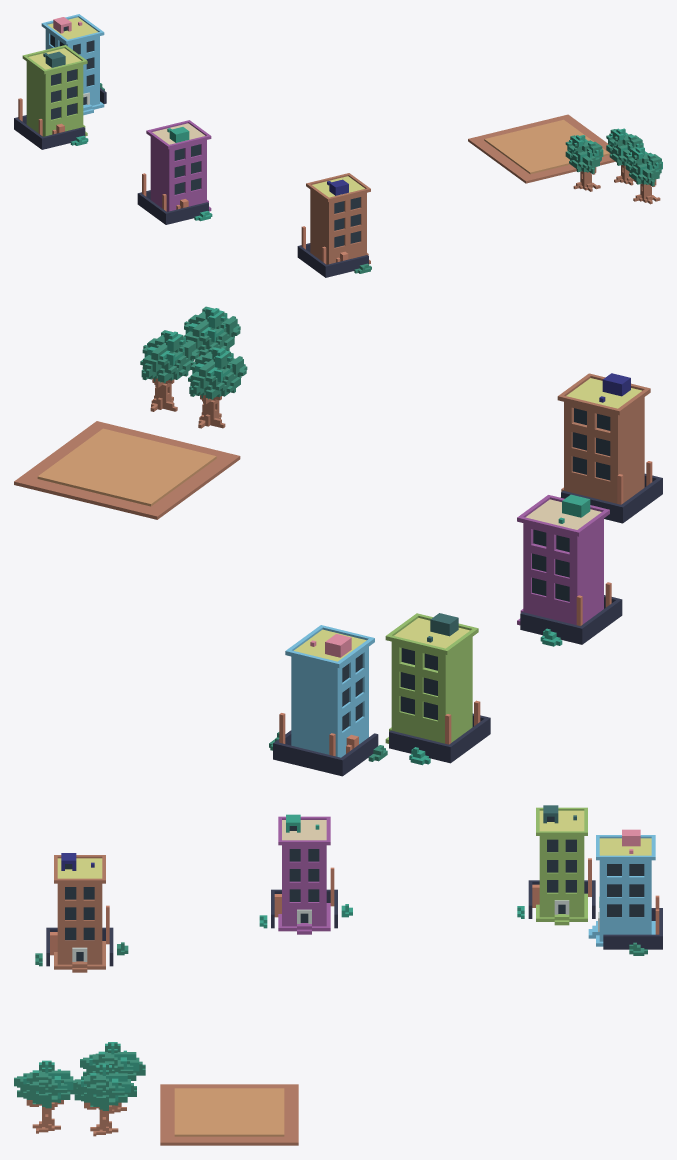
The model's file is ExtraBuildingsAndTrees2.fbx.
3 renders of one model, top to bottom at view 1: azimuth 30°, elevation 25°; view 2: azimuth 150°, elevation 25°; view 3: azimuth 270°, elevation 25°, orthographic. The views are drawn at different scales.
Parts seen in each view (by area): view 1: bgBuilding5, bgBuilding2:bgBuilding2, bgBuilding4, pCube11002, bgBuilding3, Tree2, Tree4, Tree3; view 2: pCube11002, bgBuilding5, bgBuilding2:bgBuilding2, bgBuilding3, bgBuilding4, Tree2, Tree3, Tree4; view 3: pCube11002, bgBuilding3, bgBuilding2:bgBuilding2, bgBuilding4, bgBuilding5, Tree4, Tree3, Tree2.
Boxes of the visible parts, <box> form: bgBuilding5: <box>14,45,88,149</box>; bgBuilding2:bgBuilding2: <box>137,120,212,224</box>; bgBuilding4: <box>297,173,371,277</box>; pCube11002: <box>468,114,615,183</box>; bgBuilding3: <box>41,14,106,115</box>; Tree2: <box>565,135,603,191</box>; Tree4: <box>625,147,662,204</box>; Tree3: <box>606,128,643,185</box>; pCube11002: <box>14,421,240,519</box>; bgBuilding5: <box>385,613,490,765</box>; bgBuilding2:bgBuilding2: <box>517,494,622,646</box>; bgBuilding3: <box>269,625,387,776</box>; bgBuilding4: <box>557,373,662,523</box>; Tree2: <box>188,346,247,428</box>; Tree3: <box>140,330,199,411</box>; Tree4: <box>184,306,240,356</box>; pCube11002: <box>160,1084,298,1145</box>; bgBuilding3: <box>588,829,662,955</box>; bgBuilding2:bgBuilding2: <box>259,814,352,934</box>; bgBuilding4: <box>35,853,128,972</box>; bgBuilding5: <box>517,805,599,925</box>; Tree4: <box>14,1060,77,1133</box>; Tree3: <box>73,1063,136,1136</box>; Tree2: <box>80,1042,145,1113</box>.
Bounding box in the file's own units: 189 × 35.01 × 207.
